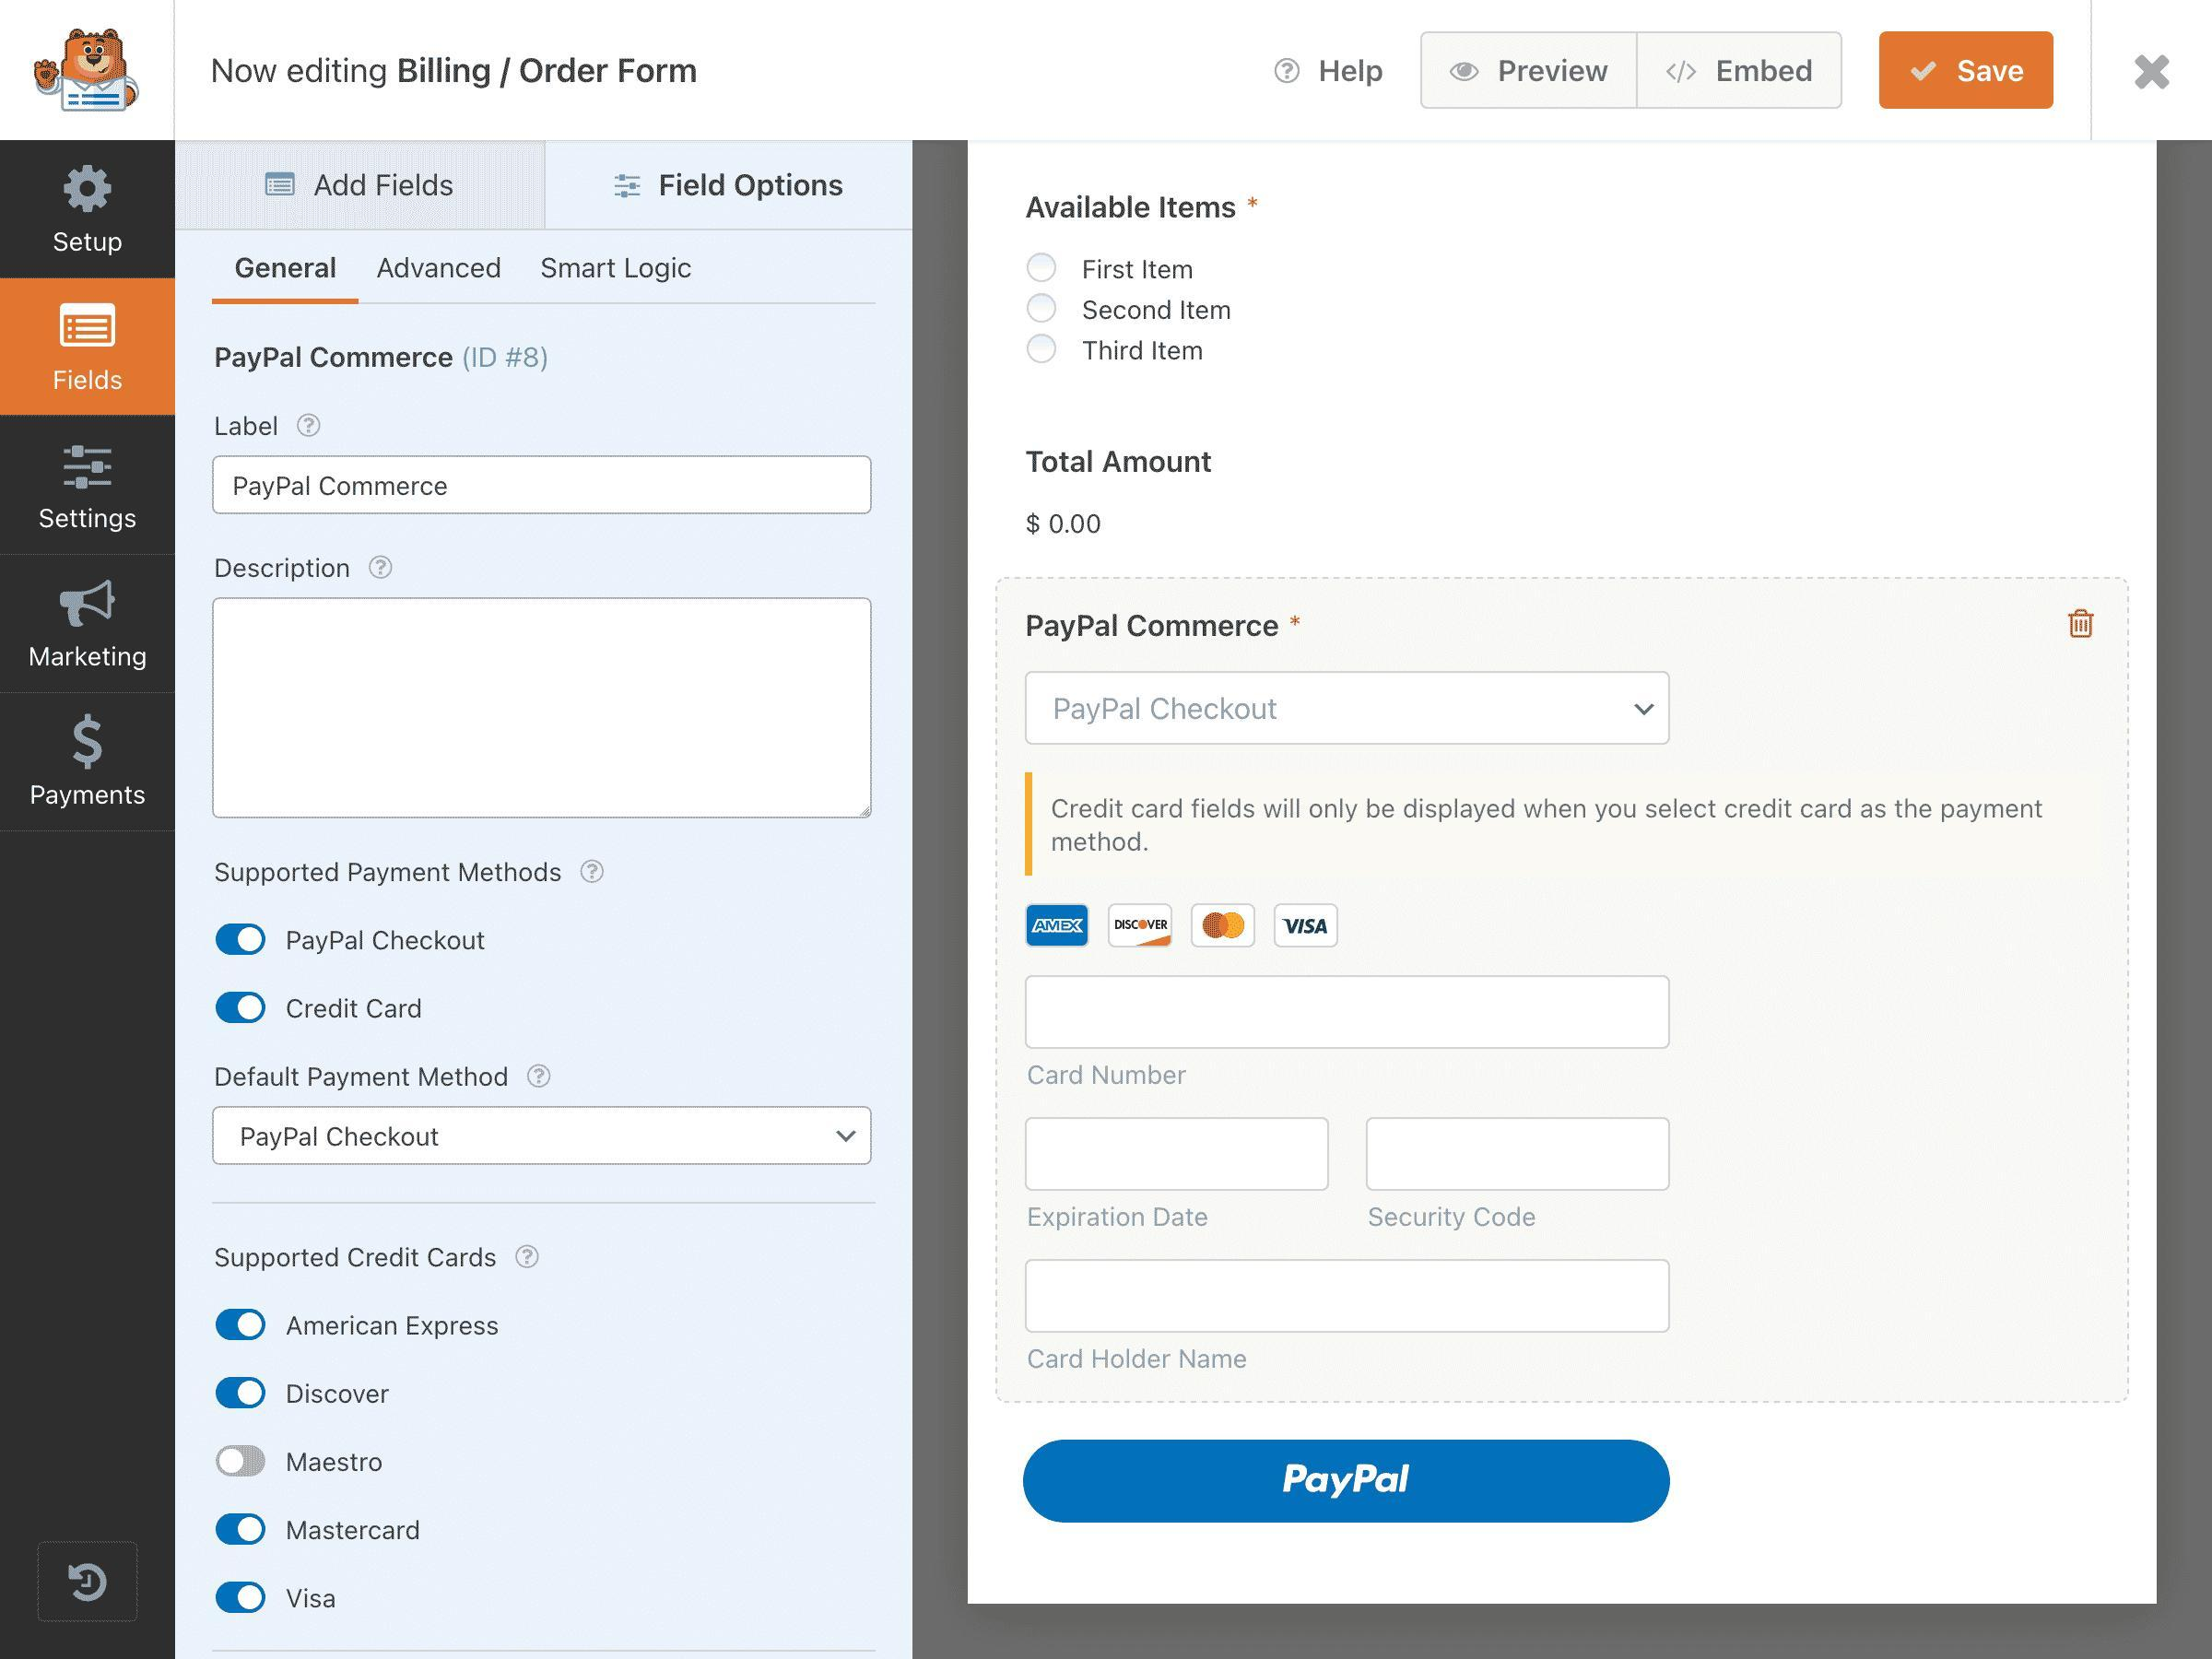button: (1024, 1438, 1670, 1525), (547, 141, 914, 227), (176, 145, 547, 228), (1421, 33, 1641, 106), (1644, 30, 1839, 110), (1879, 33, 2052, 112), (216, 234, 361, 307)
checkbox: (1021, 321, 1069, 369), (1021, 284, 1069, 326), (1021, 247, 1066, 284)
dropdown: (1028, 674, 1672, 748), (214, 1108, 873, 1169)
icon: (54, 709, 118, 775), (52, 300, 124, 352), (57, 580, 117, 633), (2127, 54, 2181, 108), (61, 159, 113, 213), (66, 439, 115, 491), (63, 1558, 113, 1607), (289, 408, 327, 444), (2071, 605, 2101, 647), (578, 856, 611, 890), (514, 1239, 542, 1272), (373, 552, 401, 582), (528, 1068, 550, 1094), (1275, 59, 1299, 82)
input: (1024, 1262, 1670, 1344), (1029, 976, 1672, 1047), (214, 460, 874, 518), (1026, 1115, 1332, 1192), (1367, 1122, 1674, 1195)
label: (207, 49, 714, 99), (200, 329, 557, 383), (200, 849, 568, 894), (1017, 605, 1312, 650), (209, 1054, 514, 1098), (209, 1243, 502, 1284), (1015, 181, 1275, 227), (282, 1312, 517, 1356), (275, 922, 495, 965), (1017, 1056, 1202, 1096), (533, 249, 700, 291), (1026, 1345, 1254, 1375), (23, 498, 158, 544), (1024, 1202, 1214, 1234), (279, 992, 437, 1028), (19, 772, 164, 812), (212, 551, 362, 589), (275, 1513, 423, 1549), (277, 1446, 399, 1488), (19, 643, 155, 680), (378, 249, 510, 286), (1082, 298, 1237, 328), (1371, 1206, 1543, 1232), (1078, 251, 1214, 284), (40, 220, 134, 265), (279, 1378, 399, 1413), (44, 357, 134, 397), (207, 406, 289, 448), (1082, 340, 1216, 364), (1317, 51, 1393, 92), (282, 1581, 341, 1610)
switch: (216, 911, 268, 965), (209, 1373, 266, 1415), (214, 986, 270, 1028), (214, 1579, 265, 1622), (216, 1303, 270, 1344), (214, 1511, 270, 1549), (218, 1446, 265, 1481)
